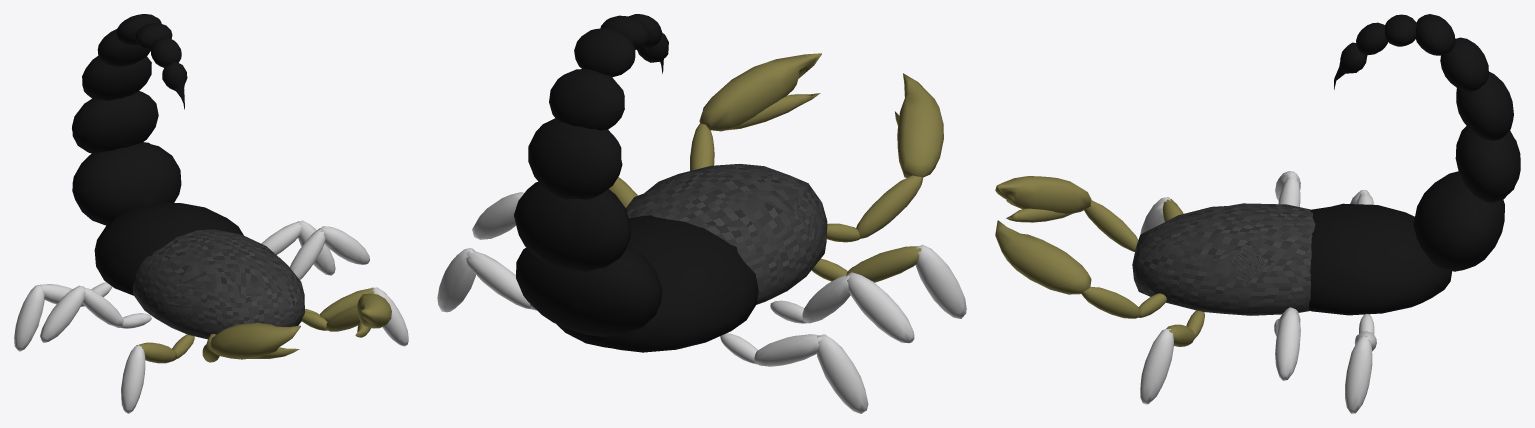
The model's file is scorpion_000010.obj.
3 renders of one model, left to right at view 1: azimuth 30°, elevation 25°; view 2: azimuth 150°, elevation 25°; view 3: azimuth 270°, elevation 25°, orthographic. The views are drawn at different scales.
Visible parts, largest first — view 1: Sphere.010_Sphere.012, Sphere.002_Sphere.004, Sphere.011_Sphere.013, Sphere.003_Sphere.005, Sphere.030_Sphere.000, Sphere.012_Sphere.020, Sphere.004_Sphere.006, Sphere.000_Sphere.019, Sphere.014_Sphere.023, Sphere.016_Sphere.022, Sphere.013_Sphere.017, Sphere.005_Sphere.007 (+9 smaller); view 2: Sphere.010_Sphere.012, Sphere.011_Sphere.013, Sphere.002_Sphere.004, Sphere.030_Sphere.000, Sphere.003_Sphere.005, Sphere.004_Sphere.006, Sphere.005_Sphere.007, Sphere.014_Sphere.023, Sphere.012_Sphere.020, Sphere.018_Sphere.025, Sphere.028_Sphere.046, Sphere.006_Sphere.008 (+11 smaller); view 3: Sphere.010_Sphere.012, Sphere.011_Sphere.013, Sphere.030_Sphere.000, Sphere.002_Sphere.004, Sphere.003_Sphere.005, Sphere.004_Sphere.006, Sphere.028_Sphere.046, Sphere.000_Sphere.019, Sphere.005_Sphere.007, Sphere.012_Sphere.020, Sphere.014_Sphere.023, Sphere.006_Sphere.008 (+6 smaller).
Part boxes in pixels (<box>): Sphere.010_Sphere.012: <box>132,229,304,339</box>; Sphere.002_Sphere.004: <box>72,142,181,225</box>; Sphere.011_Sphere.013: <box>94,203,243,295</box>; Sphere.003_Sphere.005: <box>72,91,158,153</box>; Sphere.030_Sphere.000: <box>209,293,391,359</box>; Sphere.012_Sphere.020: <box>40,226,369,342</box>; Sphere.004_Sphere.006: <box>82,56,151,100</box>; Sphere.000_Sphere.019: <box>121,287,408,413</box>; Sphere.014_Sphere.023: <box>14,220,335,351</box>; Sphere.016_Sphere.022: <box>83,227,325,327</box>; Sphere.013_Sphere.017: <box>136,288,373,363</box>; Sphere.005_Sphere.007: <box>97,29,150,66</box>; Sphere.010_Sphere.012: <box>626,164,827,304</box>; Sphere.011_Sphere.013: <box>556,215,758,352</box>; Sphere.002_Sphere.004: <box>516,245,662,336</box>; Sphere.030_Sphere.000: <box>699,53,943,177</box>; Sphere.003_Sphere.005: <box>514,182,631,271</box>; Sphere.004_Sphere.006: <box>528,118,622,199</box>; Sphere.005_Sphere.007: <box>549,69,624,130</box>; Sphere.014_Sphere.023: <box>437,248,868,413</box>; Sphere.012_Sphere.020: <box>472,192,914,343</box>; Sphere.018_Sphere.025: <box>466,250,821,366</box>; Sphere.028_Sphere.046: <box>690,123,922,238</box>; Sphere.006_Sphere.008: <box>574,28,635,77</box>; Sphere.010_Sphere.012: <box>1132,203,1315,315</box>; Sphere.011_Sphere.013: <box>1309,203,1451,315</box>; Sphere.030_Sphere.000: <box>995,176,1091,294</box>; Sphere.002_Sphere.004: <box>1413,171,1504,271</box>; Sphere.003_Sphere.005: <box>1455,126,1520,202</box>; Sphere.004_Sphere.006: <box>1456,71,1513,140</box>; Sphere.028_Sphere.046: <box>1081,200,1140,318</box>; Sphere.000_Sphere.019: <box>1140,197,1173,404</box>; Sphere.005_Sphere.007: <box>1440,37,1488,91</box>; Sphere.012_Sphere.020: <box>1275,171,1300,380</box>; Sphere.014_Sphere.023: <box>1345,189,1372,413</box>; Sphere.006_Sphere.008: <box>1415,14,1455,55</box>.
Bounding box in the file's own units: 0.9668 × 0.7672 × 1.18.
